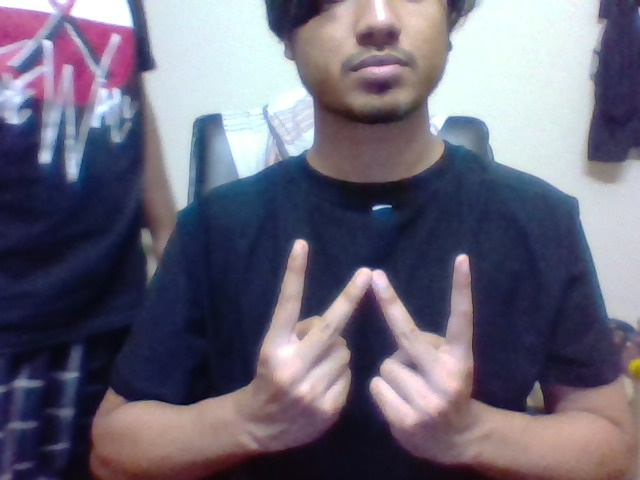W: (273, 233, 481, 354)
